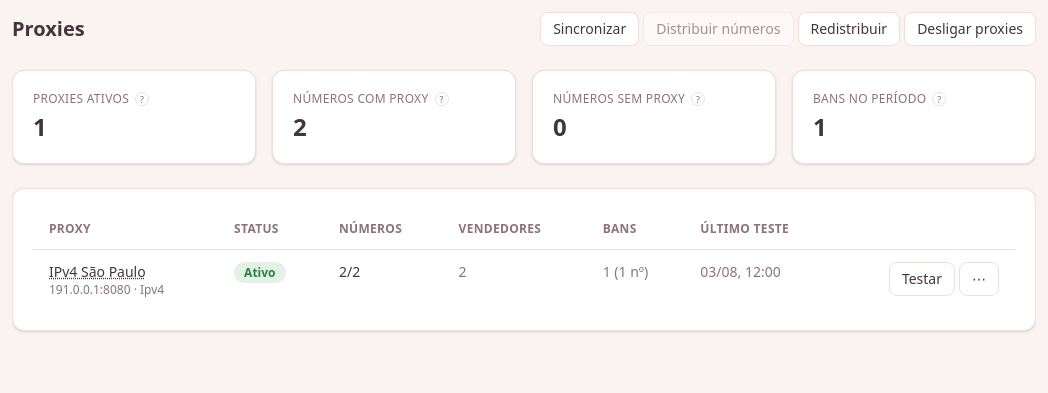
Test: ProxiesPage › mostra os números de um proxy ao expandir
The image size is (1048, 393).
Click the button "IPv4 São Paulo". click: (97, 272)
box: [49,262,146,282]
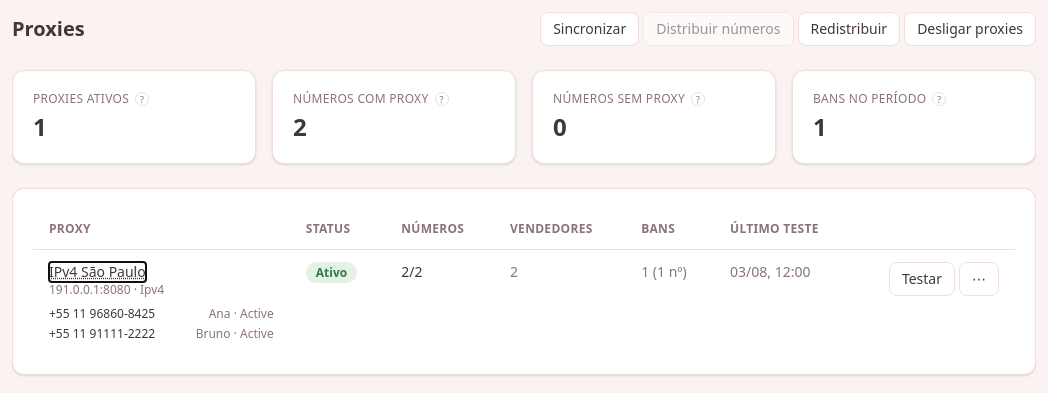
Now the text "+55 11 96860-8425" is shown, box [49,306,155,322]
Now the text "Ana · Active" is shown, box [209,306,274,322]
